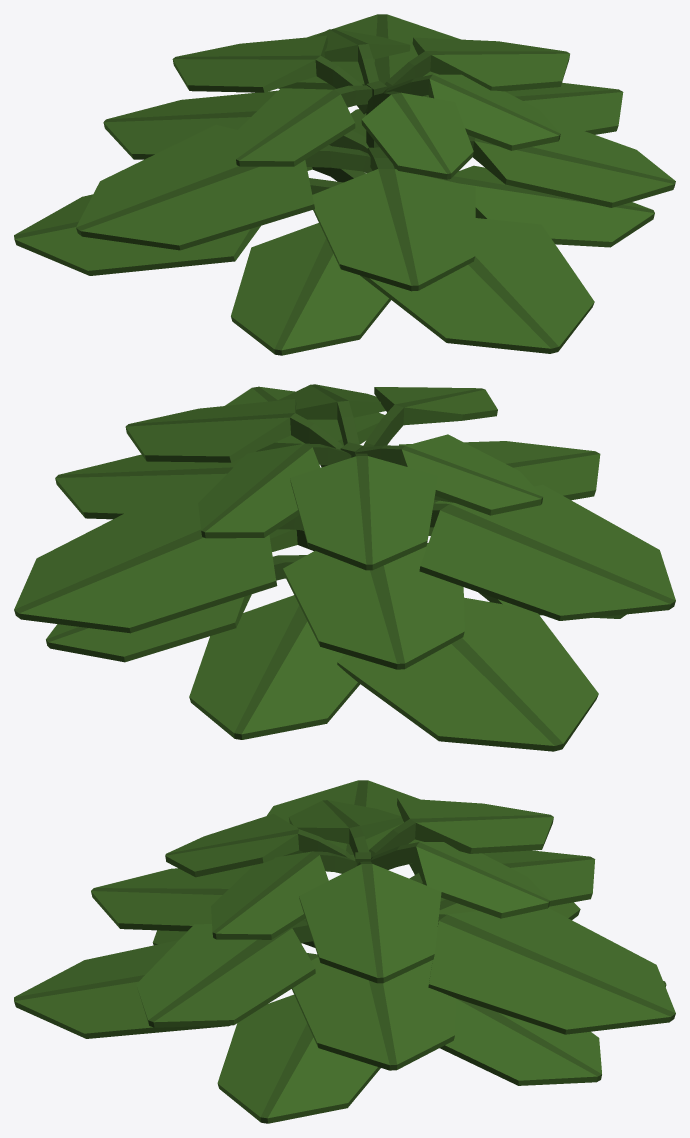
File: Short_Plant.fbx
3 views of the same model, one above another, from view 1: azimuth 30°, elevation 25°; view 2: azimuth 150°, elevation 25°; view 3: azimuth 270°, elevation 25° (orthographic). The views are drawn at different scales.
Visible parts, largest first — view 1: Short_Plant; view 2: Short_Plant; view 3: Short_Plant.
Boxes of the visible parts, x1,y1,x2,y2 form: Short_Plant: (14, 14, 675, 355); Short_Plant: (14, 384, 675, 751); Short_Plant: (14, 780, 675, 1123).
Bounding box in the file's own units: 559 × 163 × 566.
